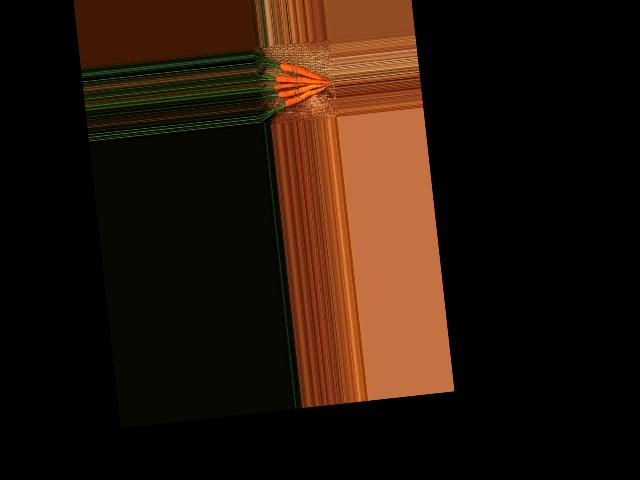carrot: (282, 86, 326, 108)
